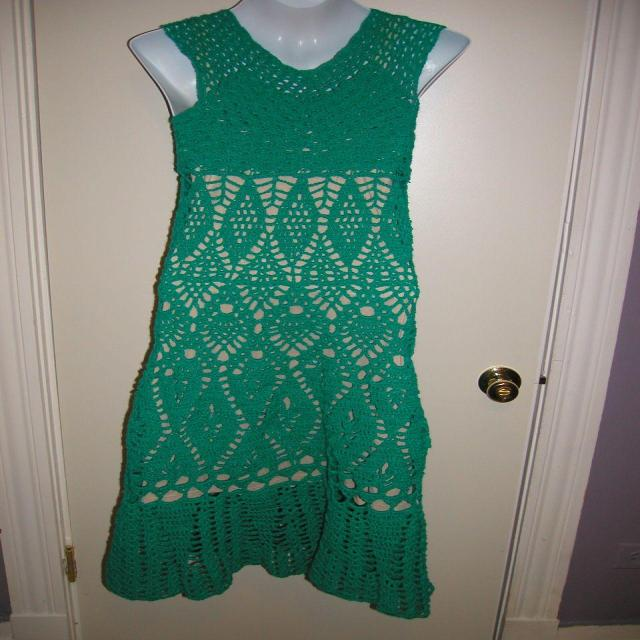Dress: (99, 7, 448, 620)
